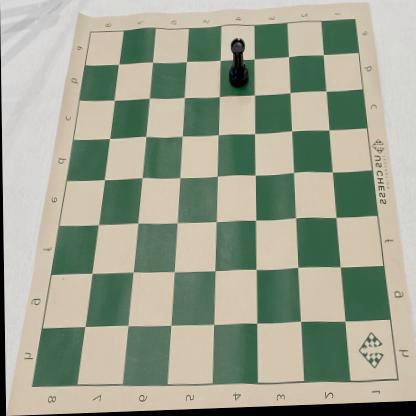black-rook: (228, 39, 249, 90)
